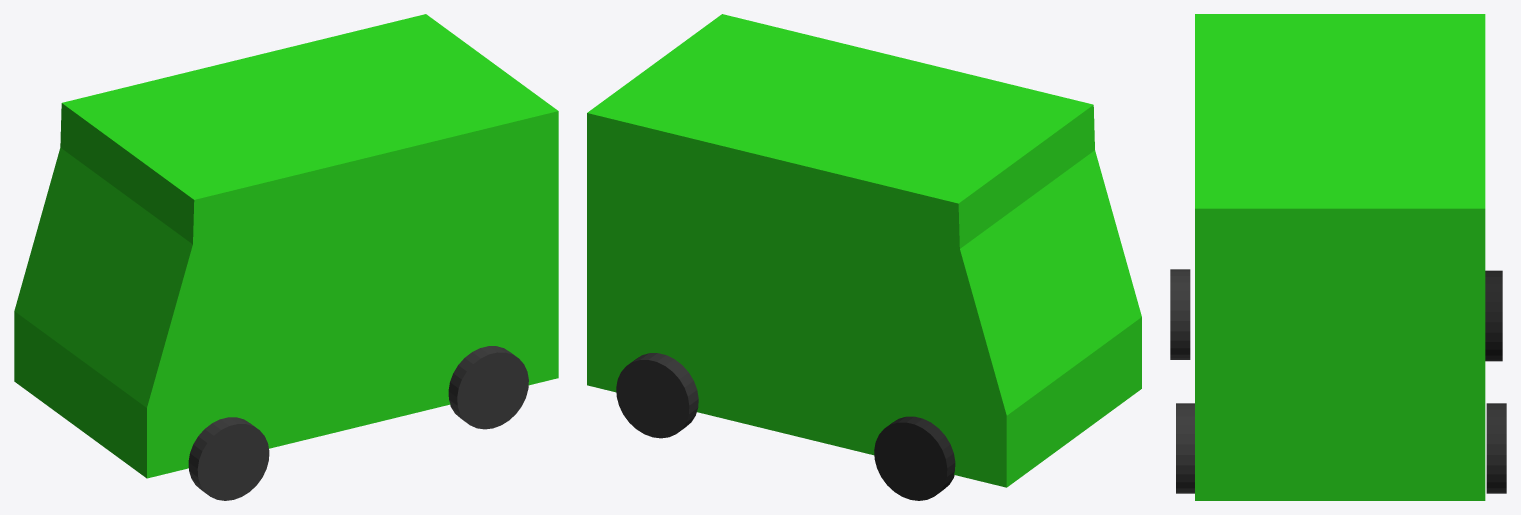
File: bus2.fbx
3 views of the same model, side by side, from view 1: azimuth 30°, elevation 25°; view 2: azimuth 150°, elevation 25°; view 3: azimuth 270°, elevation 25° (orthographic). The views are drawn at different scales.
Parts seen in each view (by area): view 1: Cube, Cylinder, Cylinder.001; view 2: Cube, Cylinder.002, Cylinder.003; view 3: Cube, Cylinder, Cylinder.002, Cylinder.001, Cylinder.003.
Part boxes in pixels (x1=…): Cube: x1=14, y1=14, x2=558, y2=478; Cylinder: x1=188, y1=417, x2=269, y2=500; Cylinder.001: x1=448, y1=346, x2=528, y2=429; Cube: x1=587, y1=14, x2=1141, y2=487; Cylinder.002: x1=616, y1=353, x2=698, y2=438; Cylinder.003: x1=874, y1=416, x2=955, y2=500; Cube: x1=1195, y1=14, x2=1485, y2=500; Cylinder: x1=1170, y1=269, x2=1190, y2=359; Cylinder.002: x1=1486, y1=403, x2=1506, y2=493; Cylinder.001: x1=1176, y1=403, x2=1194, y2=493; Cylinder.003: x1=1485, y1=270, x2=1502, y2=361.
Bounding box in the file's own units: 413 × 286 × 267.
